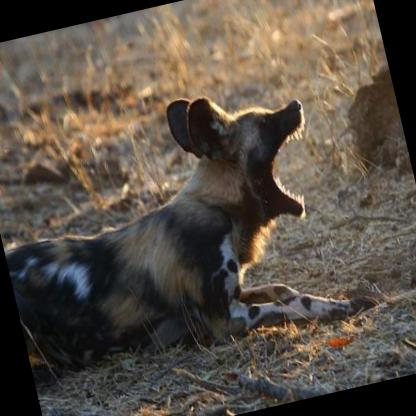African_hunting_dog: (0, 61, 381, 389)
